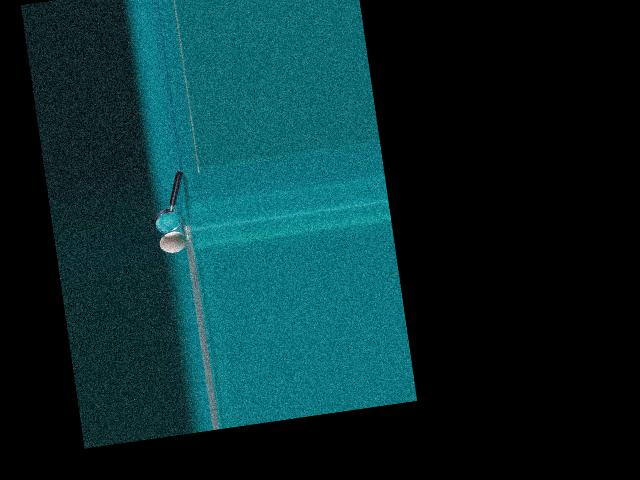egg: (158, 230, 187, 255)
